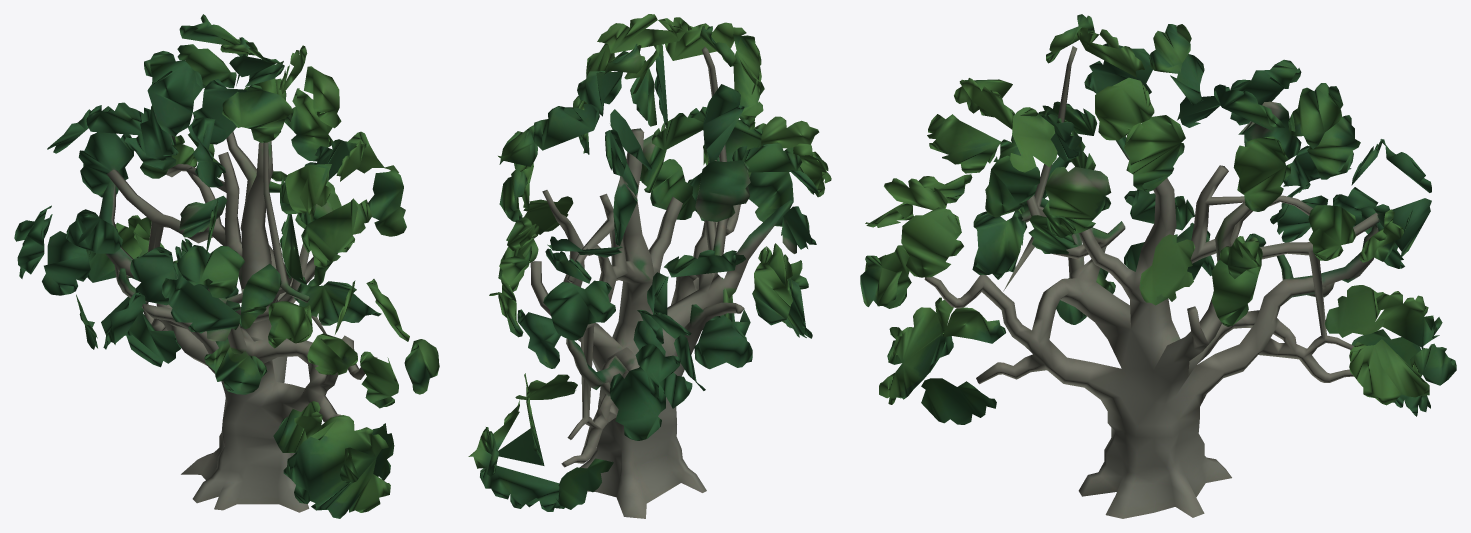
3 views of the same model, side by side, from view 1: azimuth 30°, elevation 25°; view 2: azimuth 150°, elevation 25°; view 3: azimuth 270°, elevation 25° (orthographic). The views are drawn at different scales.
Parts seen in each view (by area): view 1: tripo_node_067dd21f-f737-4ba2-a1dd-25838877e89e; view 2: tripo_node_067dd21f-f737-4ba2-a1dd-25838877e89e; view 3: tripo_node_067dd21f-f737-4ba2-a1dd-25838877e89e.
Part boxes in pixels (x1,y1,x2,y2): tripo_node_067dd21f-f737-4ba2-a1dd-25838877e89e: (14,14,439,518); tripo_node_067dd21f-f737-4ba2-a1dd-25838877e89e: (468,14,831,518); tripo_node_067dd21f-f737-4ba2-a1dd-25838877e89e: (860,14,1456,518).
Size of the model in its own units: 0.4941 by 0.8652 by 0.998.
Materials: 1 (1 with a texture image).
